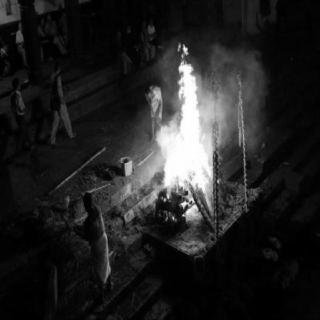Fire: (150, 40, 214, 198)
